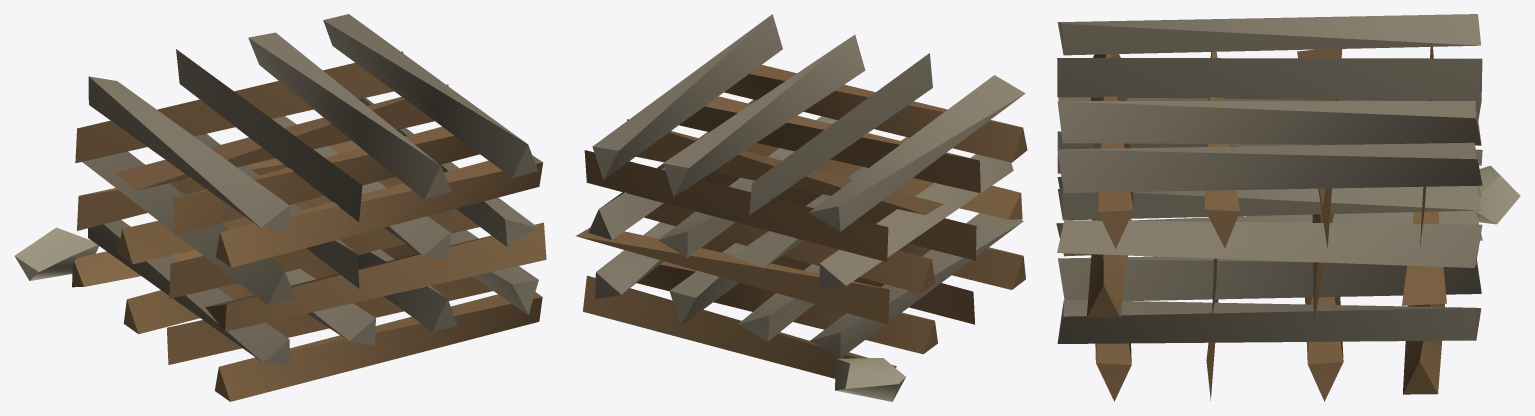
File: lagging_stack_a_lod2.glb
3 renders of one model, left to right at view 1: azimuth 30°, elevation 25°; view 2: azimuth 150°, elevation 25°; view 3: azimuth 270°, elevation 25°, orthographic. The views are drawn at different scales.
Visible parts, largest first — view 1: Surface.001; view 2: Surface.001; view 3: Surface.001.
Boxes of the visible parts, box(x1,y1,x2,y2) form: Surface.001: box(14, 14, 546, 401); Surface.001: box(575, 14, 1027, 401); Surface.001: box(1056, 14, 1520, 401).
Size of the model in its own units: 2.24 by 1.22 by 2.2.
